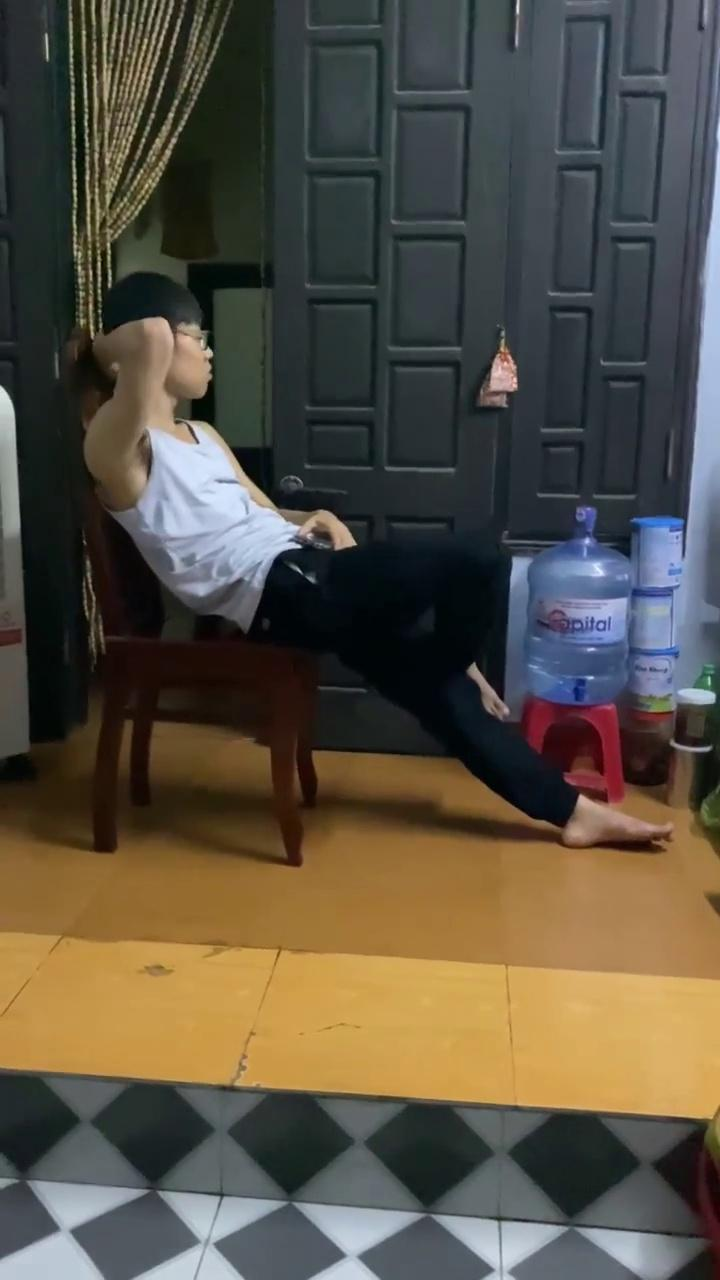BadPosture: (69, 273, 671, 849)
